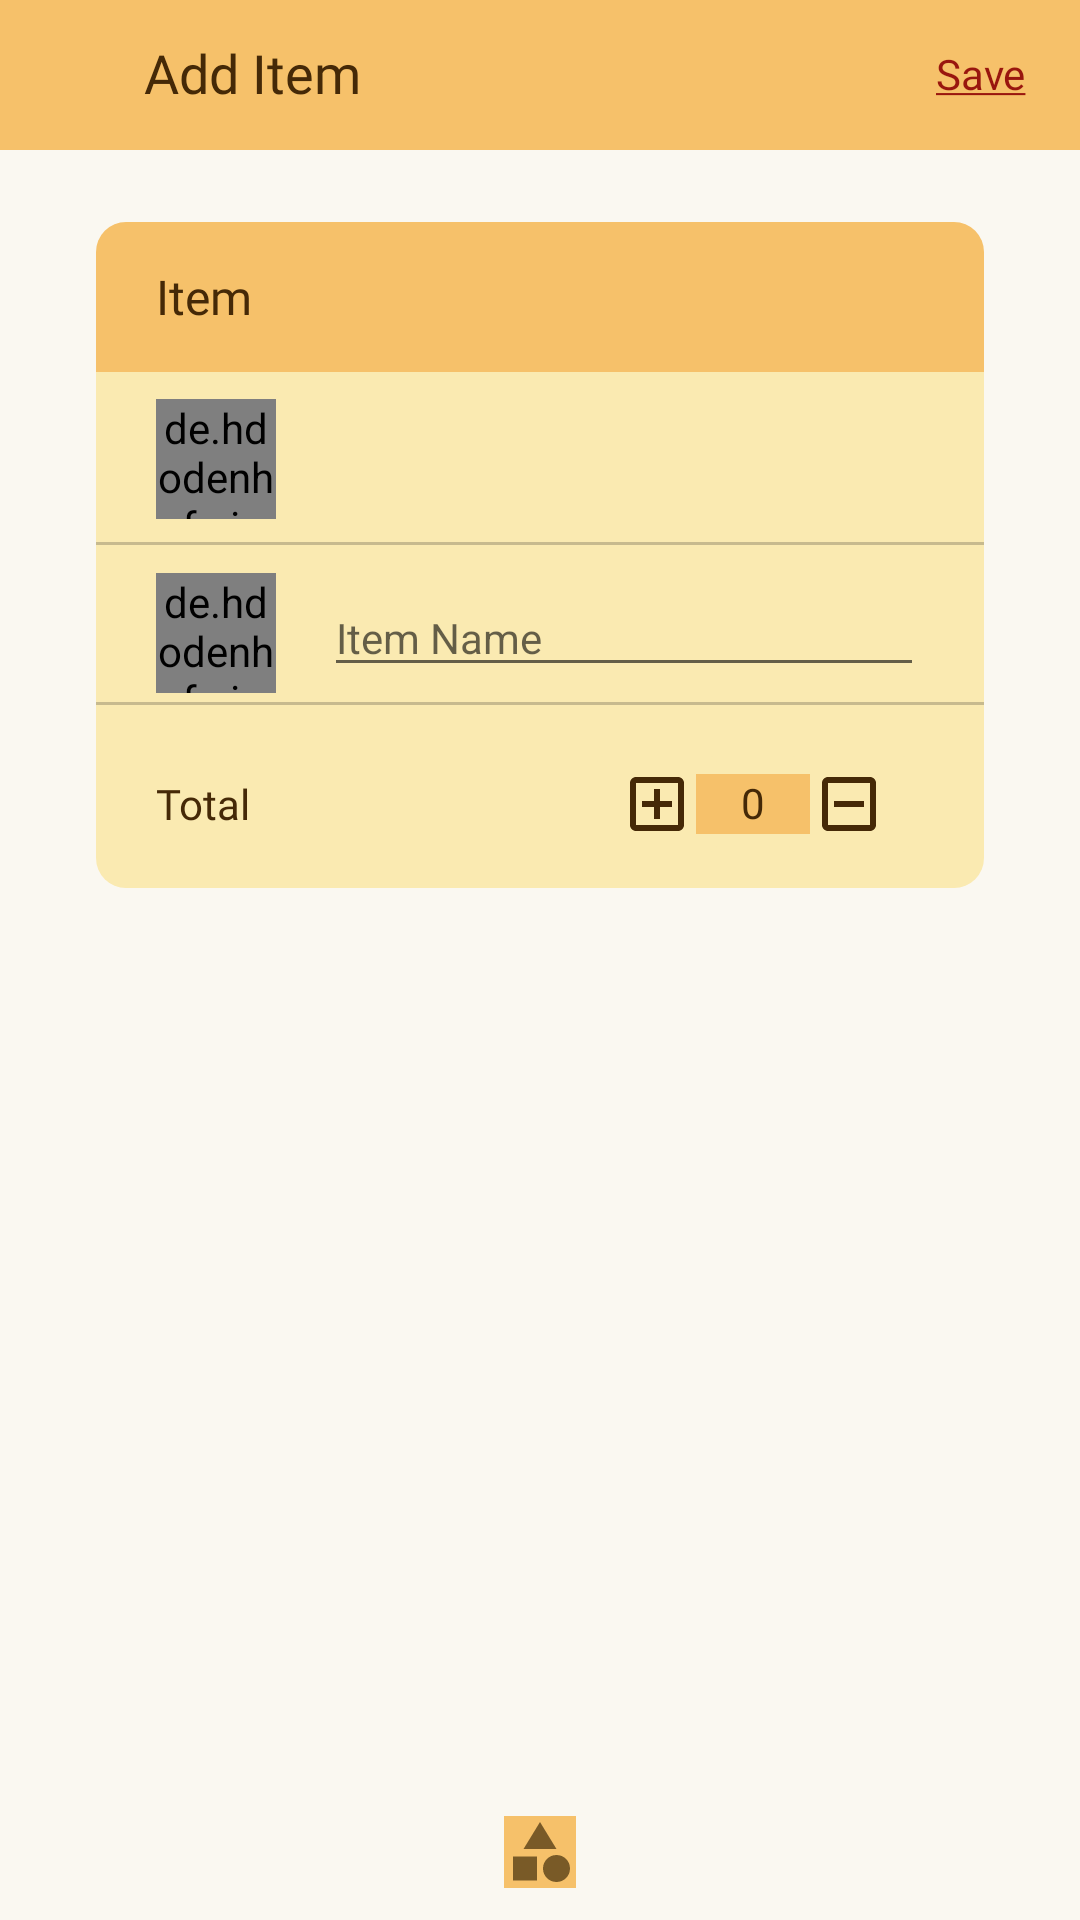

Icons on this 1080×1920 Android screen, each with the point to tap as [x,y]:
category brown: [540,1852]
